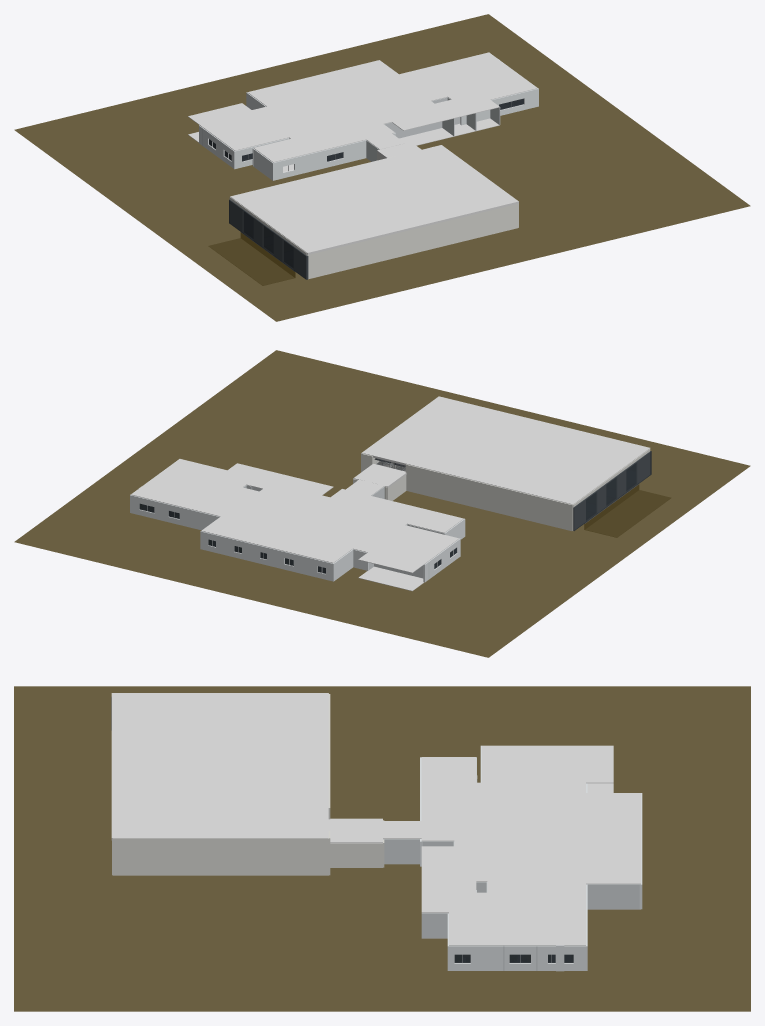
File: base-map.glb
3 views of the same model, one above another, from view 1: azimuth 30°, elevation 25°; view 2: azimuth 150°, elevation 25°; view 3: azimuth 270°, elevation 25° (orthographic). The views are drawn at different scales.
Parts seen in each view (by area): view 1: Plane, CEILING_TILES_MERGED, processing-ceiling.001, chicken_processing_loading_dock, processing-bay-doors, FLOOR_TILES_MERGED, WALL_H_m12p00_m44p50_m25p50; view 2: Plane, CEILING_TILES_MERGED, processing-ceiling.001, chicken_processing_loading_dock, processing-bay-doors, FLOOR_TILES_MERGED, processing-ceiling, WALL_H_48p00_43p00_76p00; view 3: Plane, CEILING_TILES_MERGED, processing-ceiling.001, chicken_processing_loading_dock, processing-ceiling, WALL_V_52p00_48p00_68p00, WALL_V_105p00_6p00_20p00, WALL_V_13p00_m26p00_m12p00, WALL_V_77p00_m12p00_8p00.
Part boxes in pixels (x1,y1,x2,y2): Plane: (14,14,750,321); CEILING_TILES_MERGED: (188,52,537,162); processing-ceiling.001: (230,145,518,254); chicken_processing_loading_dock: (209,146,518,285); processing-bay-doors: (229,199,308,279); FLOOR_TILES_MERGED: (188,118,499,171); WALL_H_m12p00_m44p50_m25p50: (294,149,326,175); Plane: (14,350,750,657); CEILING_TILES_MERGED: (131,459,463,572); processing-ceiling.001: (362,396,650,504); chicken_processing_loading_dock: (353,449,670,537); processing-bay-doors: (573,451,651,530); FLOOR_TILES_MERGED: (358,566,424,591); processing-ceiling: (353,464,406,487); WALL_H_48p00_43p00_76p00: (179,507,219,530); Plane: (14,686,750,1011); CEILING_TILES_MERGED: (383,745,640,945); processing-ceiling.001: (111,693,328,840); chicken_processing_loading_dock: (112,693,384,875); processing-ceiling: (328,818,382,843); WALL_V_52p00_48p00_68p00: (587,884,640,909); WALL_V_105p00_6p00_20p00: (471,945,509,970); WALL_V_13p00_m26p00_m12p00: (384,839,419,864); WALL_V_77p00_m12p00_8p00: (421,913,448,938).
Size of what is drawn, in the model's own units: 85.52 by 5.78 by 81.88.
Materials: 42 (24 with a texture image).
